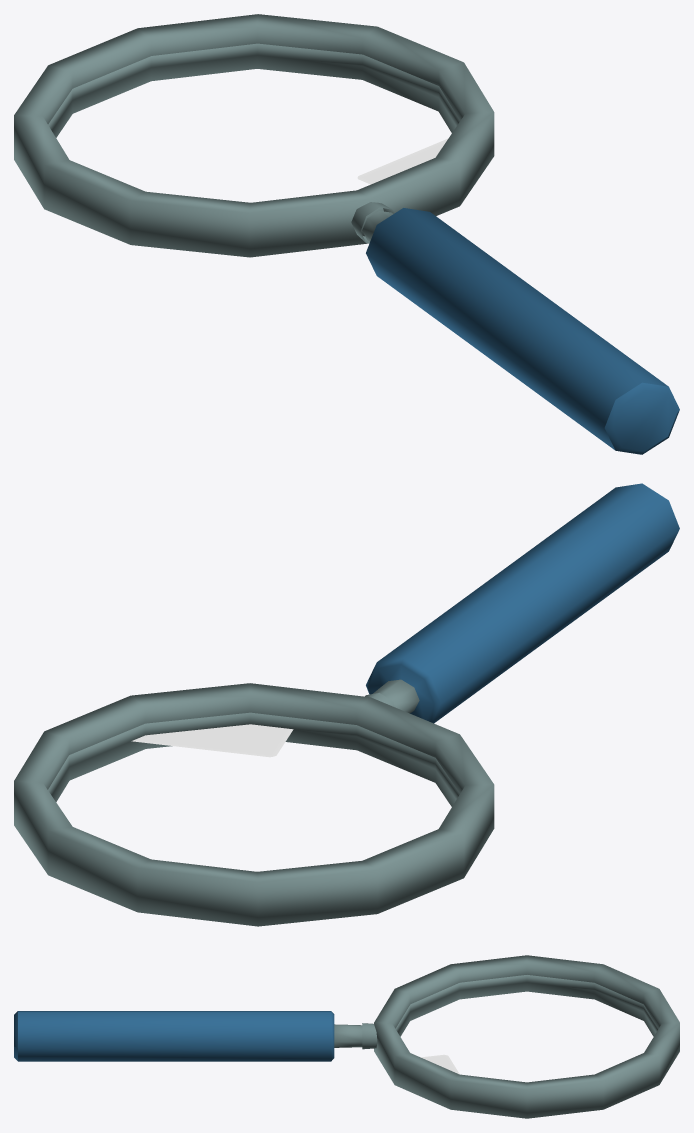
The model's file is Object_MagnifyingGlass.fbx.
3 renders of one model, top to bottom at view 1: azimuth 30°, elevation 25°; view 2: azimuth 150°, elevation 25°; view 3: azimuth 270°, elevation 25°, orthographic. The views are drawn at different scales.
Parts seen in each view (by area): view 1: MagnifyingGlass, MagnifyingGlass._Lens; view 2: MagnifyingGlass, MagnifyingGlass._Lens; view 3: MagnifyingGlass, MagnifyingGlass._Lens.
Boxes of the visible parts, left/top/right/bottom form: MagnifyingGlass: left=14, top=14, right=679, bottom=454; MagnifyingGlass._Lens: left=48, top=43, right=459, bottom=184; MagnifyingGlass: left=14, top=483, right=679, bottom=926; MagnifyingGlass._Lens: left=48, top=712, right=459, bottom=806; MagnifyingGlass: left=14, top=955, right=679, bottom=1118; MagnifyingGlass._Lens: left=395, top=975, right=658, bottom=1074.
Bounding box in the file's own units: 10.26 × 1.69 × 21.49.
1 material, 1 textured.
